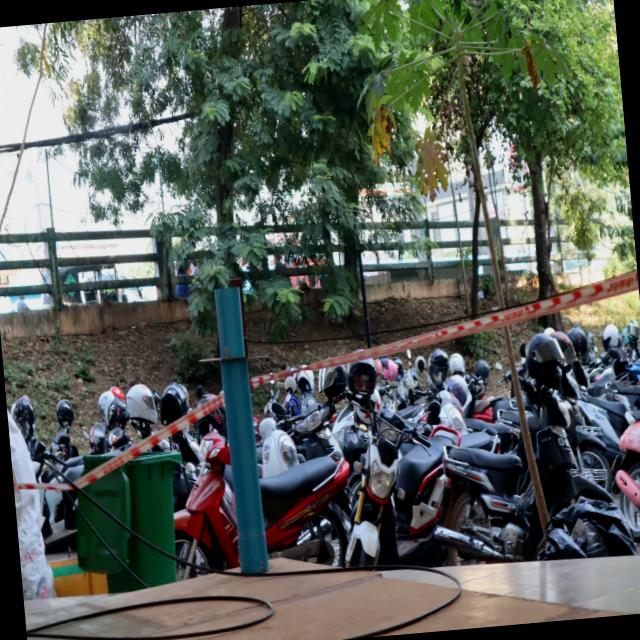pole: (185, 273, 285, 432)
